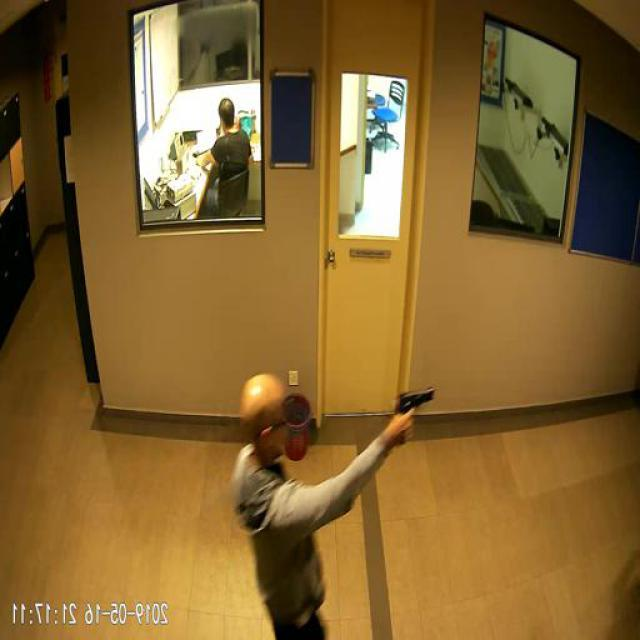Gun: (400, 386, 435, 440)
